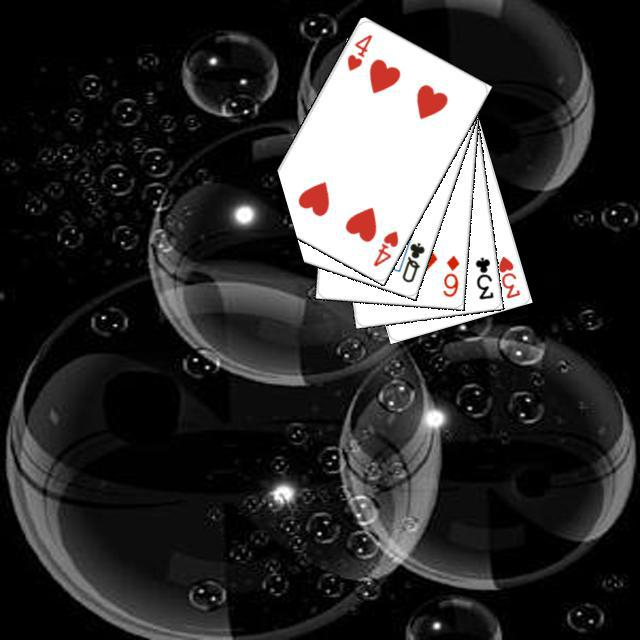3c: (470, 252, 495, 301)
3h: (493, 251, 522, 300)
4h: (342, 29, 374, 73), (368, 226, 400, 268)
6d: (438, 250, 461, 299)
Qc: (391, 230, 426, 284)
